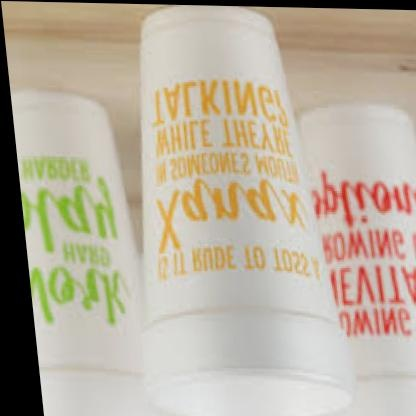trash: (140, 7, 352, 415), (12, 91, 140, 368), (300, 103, 415, 374)
